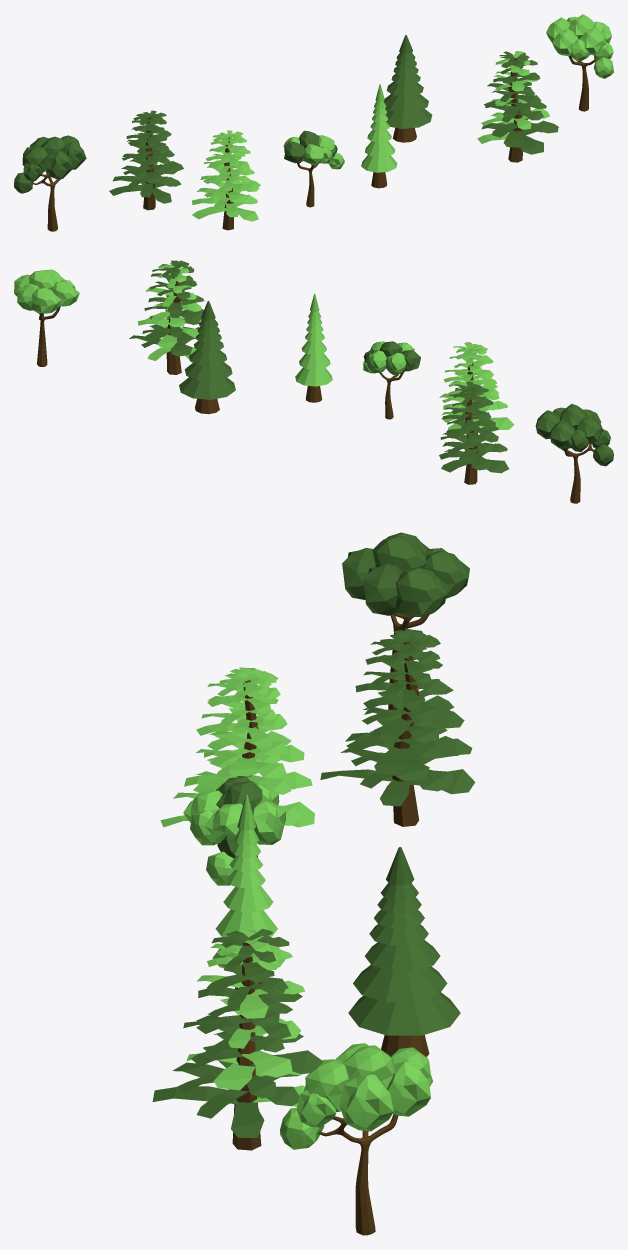
3 renders of one model, top to bottom at view 1: azimuth 30°, elevation 25°; view 2: azimuth 150°, elevation 25°; view 3: azimuth 270°, elevation 25°, orthographic. The views are drawn at different scales.
Visible parts, largest first — view 1: Tree6_0, Tree8_2, Tree7_1, Tree3_3, Tree5_5, Tree2_7, Tree4_4, Tree1_6; view 2: Tree6_0, Tree7_1, Tree2_7, Tree5_5, Tree3_3, Tree8_2, Tree1_6, Tree4_4; view 3: Tree6_0, Tree7_1, Tree2_7, Tree3_3, Tree8_2, Tree5_5, Tree4_4, Tree1_6.
Part boxes in pixels (x1=…): Tree6_0: x1=477, y1=51, x2=558, y2=162; Tree8_2: x1=192, y1=130, x2=260, y2=230; Tree7_1: x1=109, y1=110, x2=183, y2=210; Tree3_3: x1=546, y1=14, x2=613, y2=111; Tree5_5: x1=14, y1=135, x2=86, y2=231; Tree2_7: x1=384, y1=35, x2=432, y2=142; Tree4_4: x1=283, y1=130, x2=344, y2=207; Tree1_6: x1=361, y1=84, x2=397, y2=188; Tree6_0: x1=129, y1=260, x2=203, y2=374; Tree7_1: x1=439, y1=382, x2=508, y2=484; Tree2_7: x1=179, y1=301, x2=235, y2=414; Tree5_5: x1=535, y1=403, x2=613, y2=503; Tree3_3: x1=14, y1=269, x2=79, y2=366; Tree8_2: x1=439, y1=342, x2=513, y2=433; Tree1_6: x1=295, y1=293, x2=332, y2=402; Tree4_4: x1=363, y1=341, x2=420, y2=419; Tree6_0: x1=152, y1=928, x2=321, y2=1150; Tree7_1: x1=320, y1=628, x2=475, y2=826; Tree2_7: x1=348, y1=847, x2=460, y2=1056; Tree3_3: x1=280, y1=1043, x2=432, y2=1235; Tree8_2: x1=160, y1=667, x2=314, y2=857; Tree5_5: x1=342, y1=532, x2=469, y2=710; Tree4_4: x1=183, y1=776, x2=285, y2=885; Tree1_6: x1=212, y1=795, x2=284, y2=996.
Size of the model in its own units: 3.94 by 0.7342 by 0.9431.
